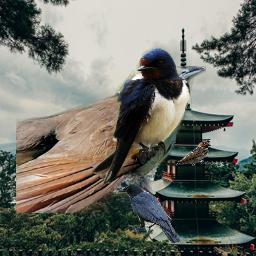Crow: (117, 183, 181, 245)
Cuckoo: (16, 66, 206, 213)
Swallow: (91, 47, 191, 188), (175, 141, 211, 167)
